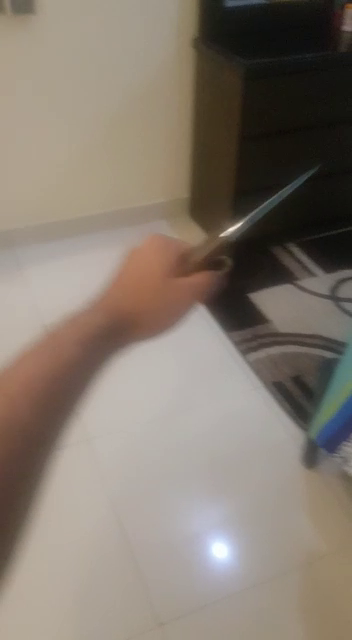knife: (129, 135, 337, 329)
